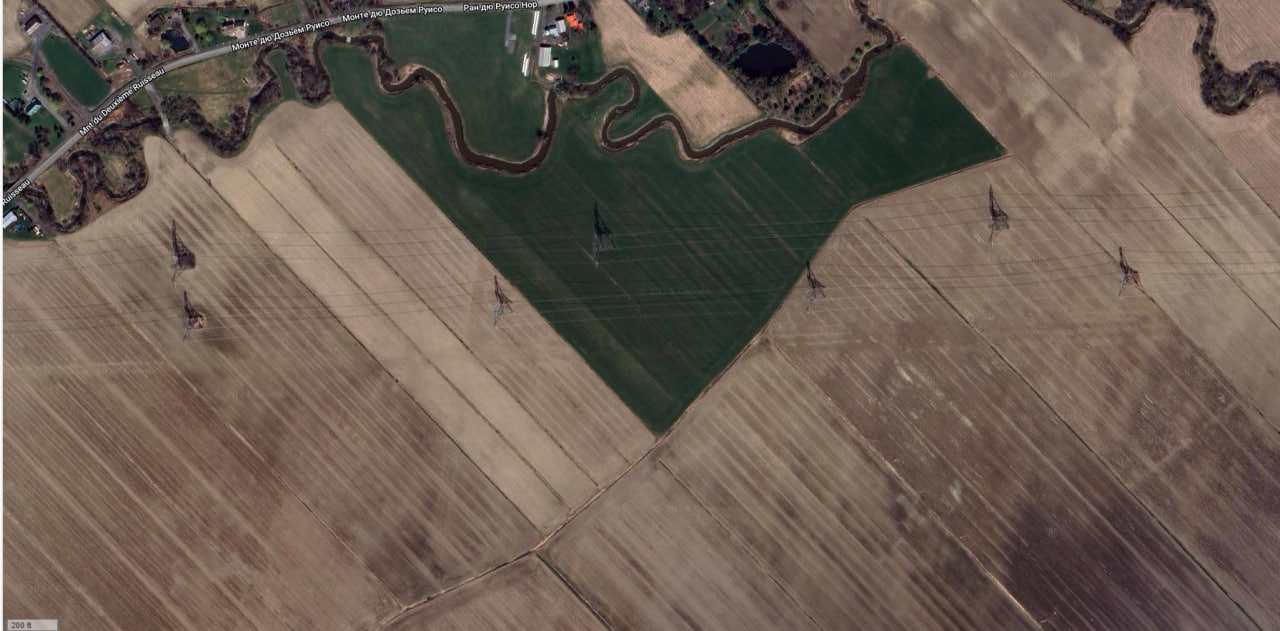Sown field: (324, 46, 1002, 434), (384, 13, 544, 160), (611, 83, 670, 137), (513, 12, 521, 21), (517, 33, 519, 42), (326, 61, 328, 69)
field: (20, 141, 528, 581), (853, 161, 1280, 631), (768, 223, 1254, 631), (877, 0, 1280, 431), (4, 244, 397, 631), (262, 103, 654, 482), (209, 167, 567, 533), (248, 142, 595, 508), (660, 342, 1036, 631), (545, 459, 819, 631), (1128, 6, 1280, 216), (593, 0, 760, 146), (387, 556, 607, 631), (1211, 0, 1280, 71), (992, 622, 1028, 631), (529, 530, 534, 539), (971, 622, 980, 627), (1105, 3, 1111, 8), (952, 623, 959, 626), (992, 623, 999, 625), (356, 281, 359, 284), (956, 628, 959, 631), (916, 628, 919, 631), (927, 628, 929, 631), (1002, 613, 1004, 615)
